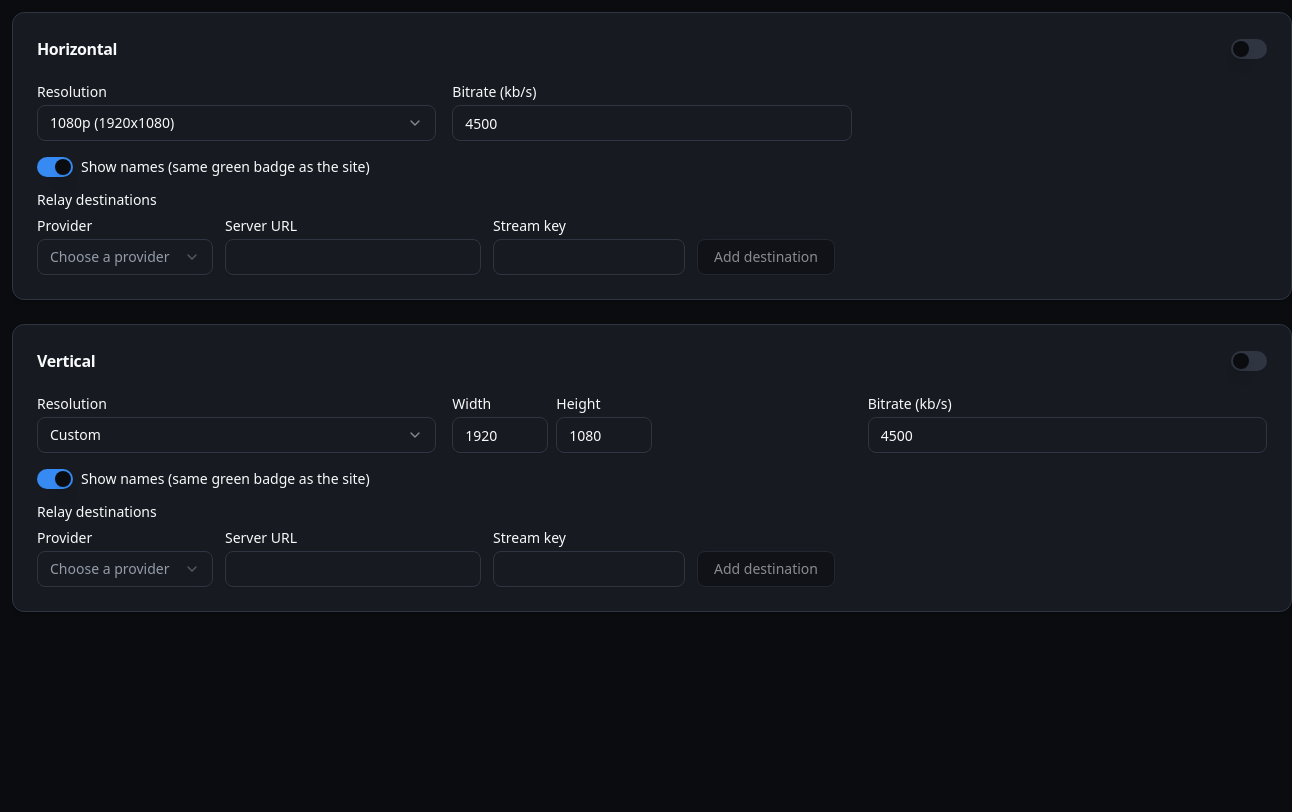
it: ChannelCompositionSection › shows the quota error when enabling a composition is refused
Click the switch named "Enable horizontal composition" at [1249, 49], box x1=1231 y1=39 x2=1267 y2=59
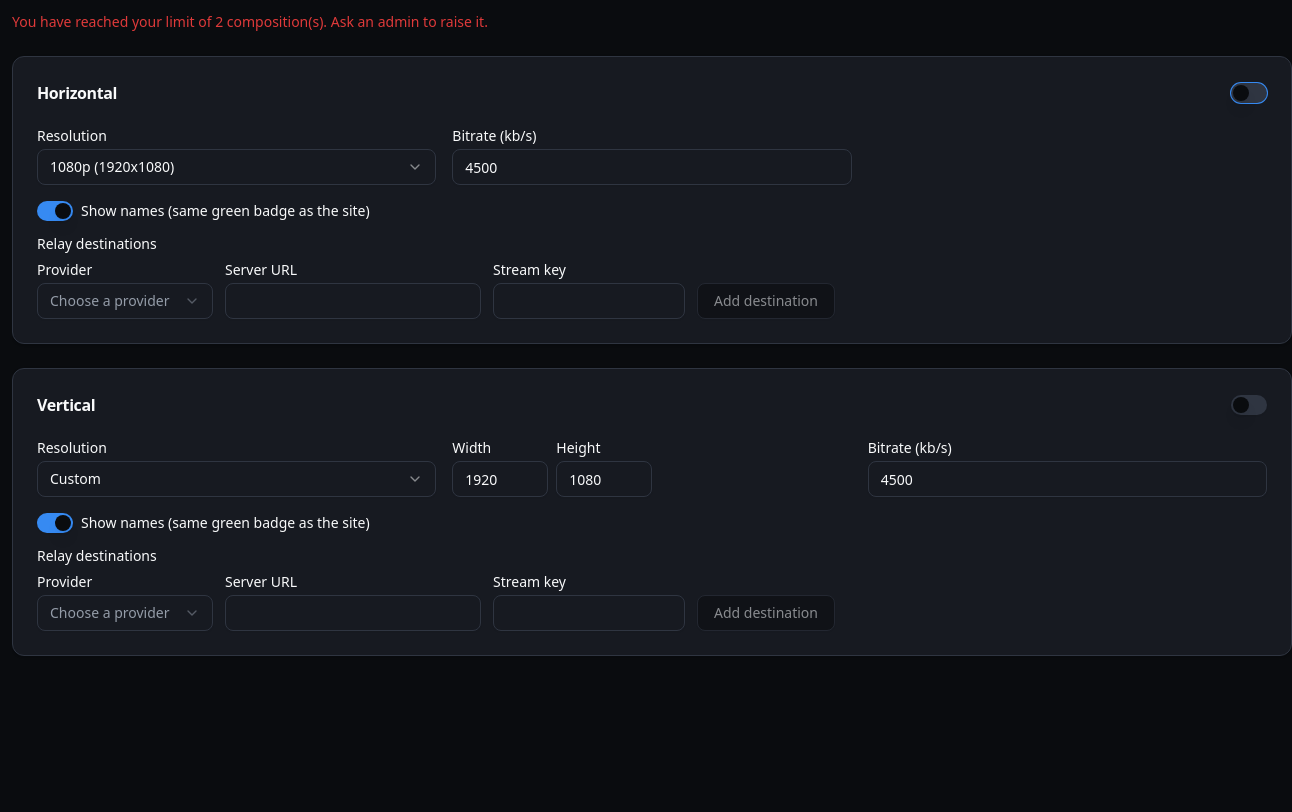
Check: the switch named "Enable vertical composition" is shown, box x1=1231 y1=395 x2=1267 y2=415
Check: the message shows "reached your limit of 2", box x1=12 y1=12 x2=488 y2=31
